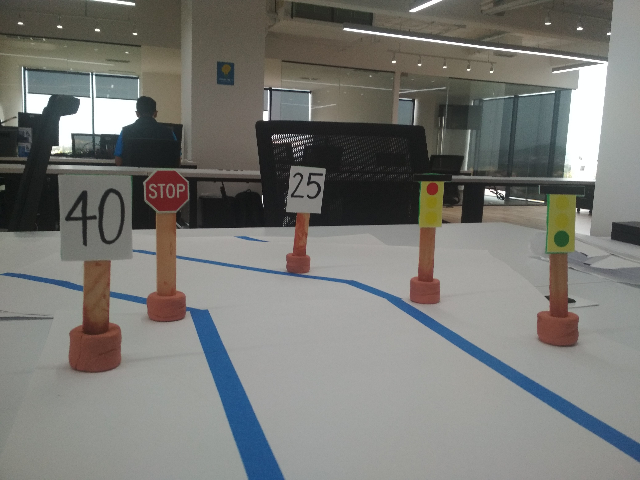Green Traffic Light: (534, 182, 590, 255)
Red Traffic Light: (408, 172, 456, 230)
Speed Limit 25: (281, 161, 328, 214)
Speed Limit 40: (54, 171, 135, 261)
Stop Sign: (141, 167, 192, 213)
